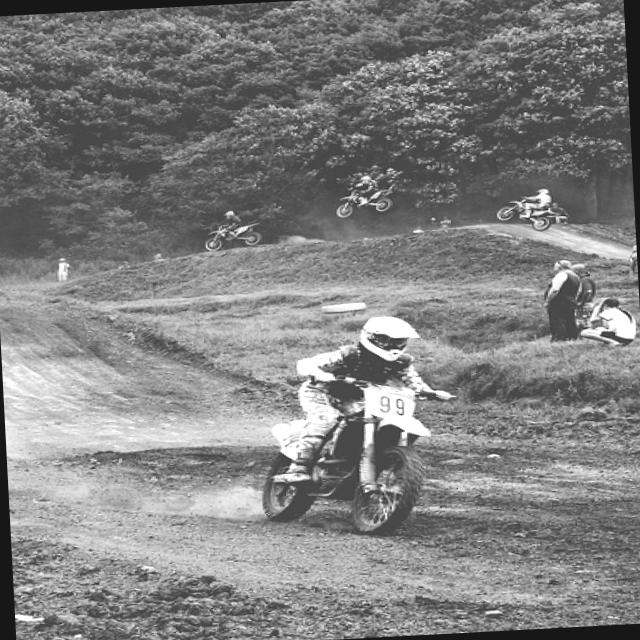Vehicle: (253, 369, 460, 545), (495, 195, 555, 232), (204, 223, 264, 254), (336, 188, 392, 218)
